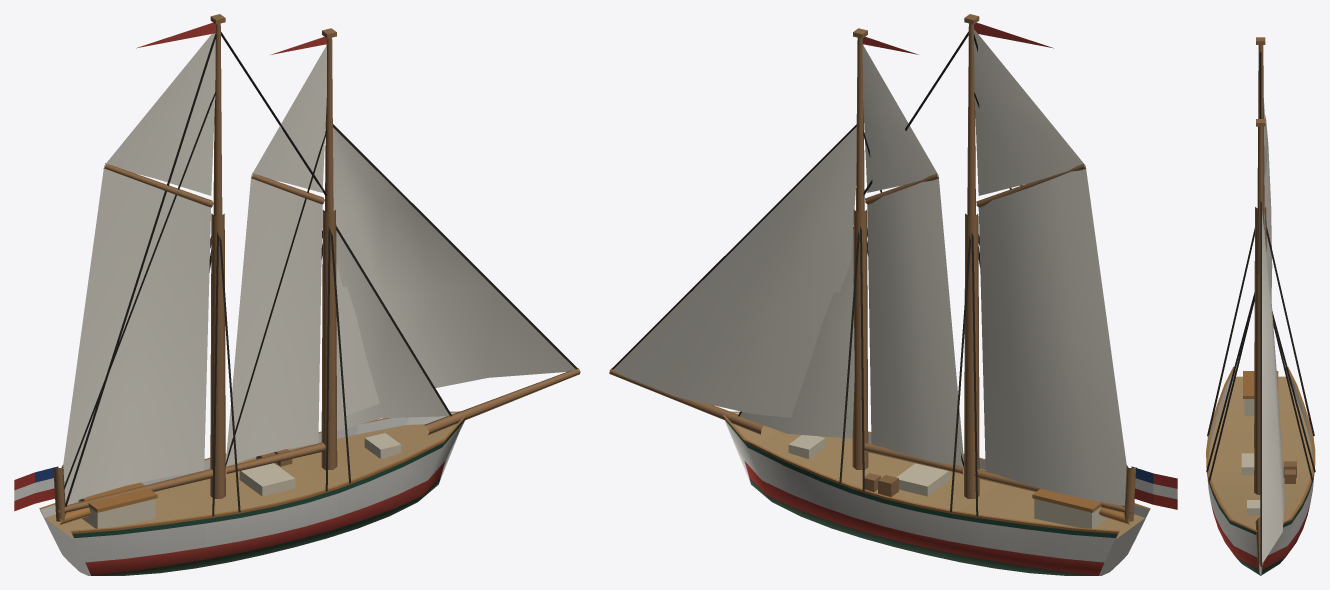
Rendered from hull_usd_schooner_large.glb.
3 renders of one model, left to right at view 1: azimuth 30°, elevation 25°; view 2: azimuth 150°, elevation 25°; view 3: azimuth 270°, elevation 25°, orthographic. The views are drawn at different scales.
Parts seen in each view (by area): view 1: sail_main, sail_jib, hull, sail_2, mast, rigging, deck, flag, boom_spar, boom_2_spar, gaff; view 2: sail_main, sail_jib, sail_2, hull, mast, deck, rigging, flag, boom_2_spar, boom_spar; view 3: hull, sail_jib, rigging, mast, deck, sail_main.
Boxes of the visible parts, x1=… form: sail_main: x1=63, y1=33, x2=215, y2=503; sail_jib: x1=333, y1=127, x2=575, y2=430; hull: x1=39, y1=411, x2=467, y2=575; sail_2: x1=225, y1=44, x2=327, y2=466; mast: x1=53, y1=14, x2=580, y2=521; rigging: x1=65, y1=32, x2=577, y2=516; deck: x1=59, y1=433, x2=401, y2=528; flag: x1=14, y1=22, x2=327, y2=511; boom_spar: x1=58, y1=92, x2=215, y2=514; boom_2_spar: x1=225, y1=129, x2=327, y2=473; gaff: x1=103, y1=163, x2=213, y2=207; sail_main: x1=974, y1=29, x2=1126, y2=505; sail_jib: x1=613, y1=127, x2=856, y2=438; sail_2: x1=862, y1=44, x2=963, y2=466; hull: x1=722, y1=411, x2=1150, y2=575; mast: x1=609, y1=14, x2=1136, y2=521; deck: x1=788, y1=435, x2=1130, y2=528; rigging: x1=612, y1=31, x2=1124, y2=516; flag: x1=862, y1=22, x2=1177, y2=509; boom_2_spar: x1=863, y1=130, x2=963, y2=474; boom_spar: x1=974, y1=92, x2=1131, y2=513; hull: x1=1206, y1=366, x2=1315, y2=575; sail_jib: x1=1262, y1=211, x2=1284, y2=562; rigging: x1=1206, y1=52, x2=1315, y2=566; mast: x1=1254, y1=37, x2=1266, y2=565; deck: x1=1241, y1=371, x2=1296, y2=515; sail_main: x1=1263, y1=98, x2=1272, y2=298.
Size of the model in its own units: 24.72 by 22.57 by 4.86.
